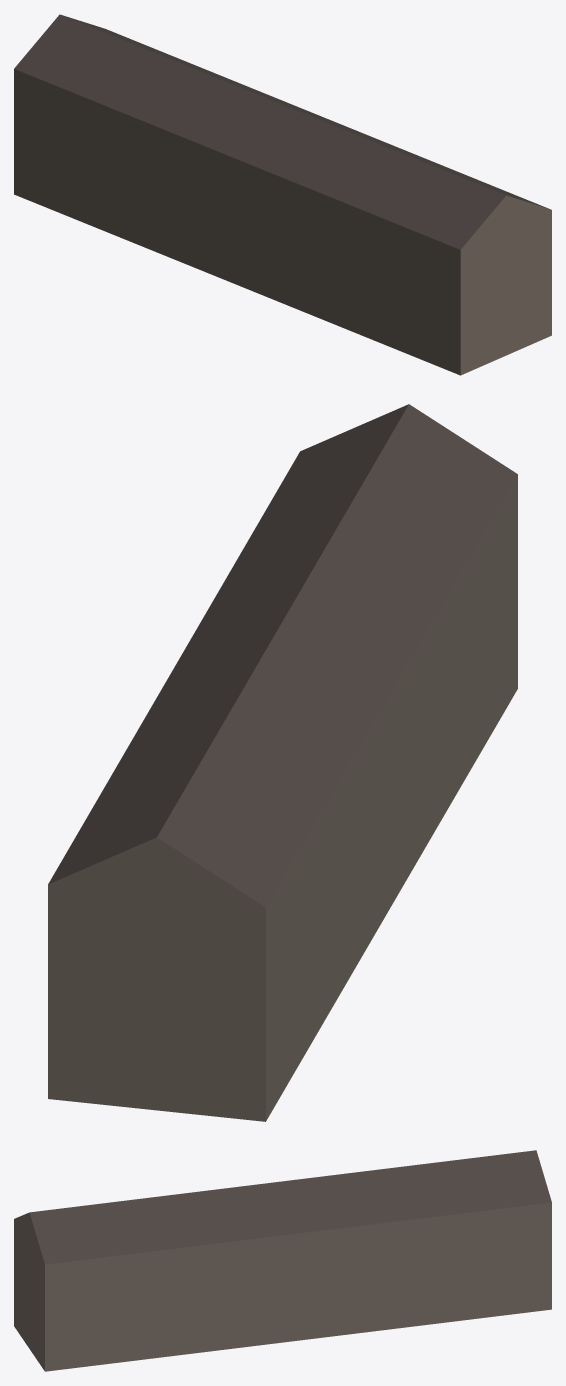
3 views of the same model, one above another, from view 1: azimuth 30°, elevation 25°; view 2: azimuth 150°, elevation 25°; view 3: azimuth 270°, elevation 25° (orthographic). The views are drawn at different scales.
Parts seen in each view (by area): view 1: HP-w378107193; view 2: HP-w378107193; view 3: HP-w378107193.
Part boxes in pixels (bbox=[...]): HP-w378107193: bbox=[14, 14, 551, 375]; HP-w378107193: bbox=[48, 404, 517, 1121]; HP-w378107193: bbox=[14, 1150, 551, 1371].
Size of the model in its own units: 19.41 by 11.47 by 40.95.
